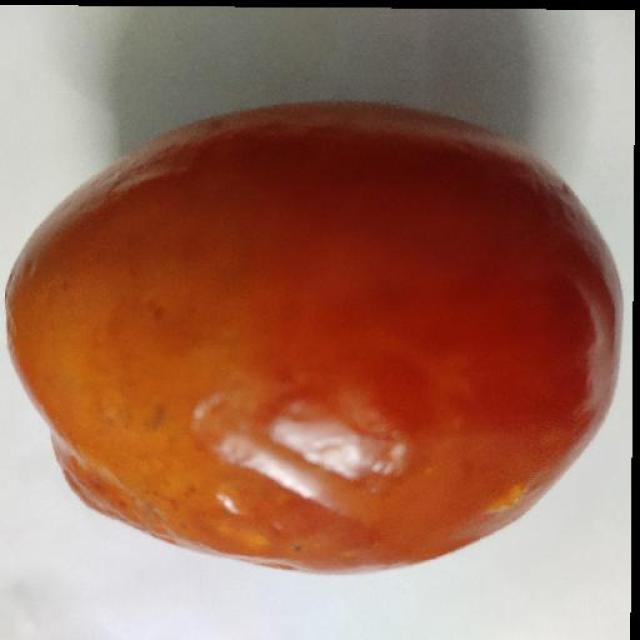Stale_tomato: (7, 114, 619, 570)
